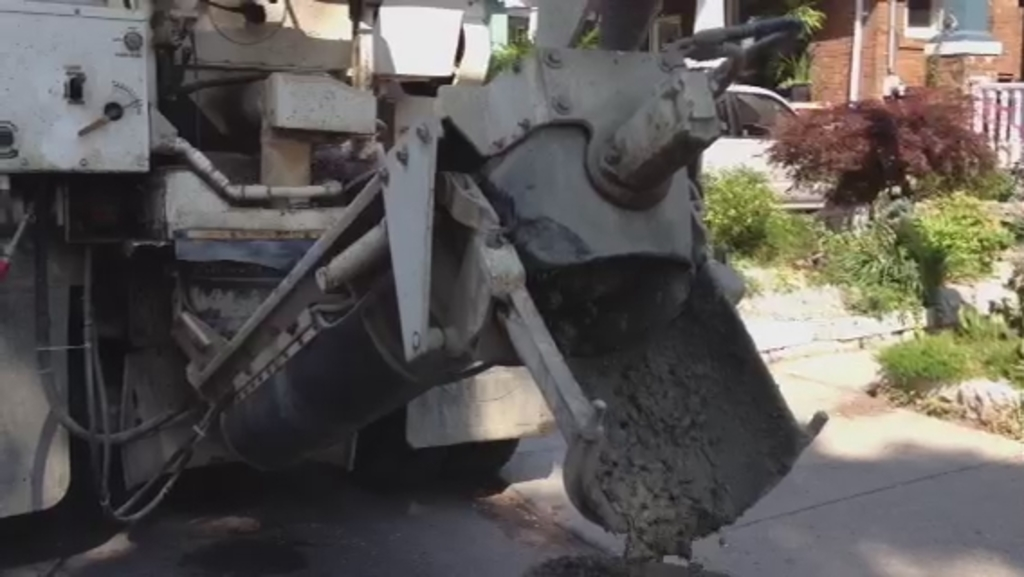cars: (697, 93, 832, 214)
